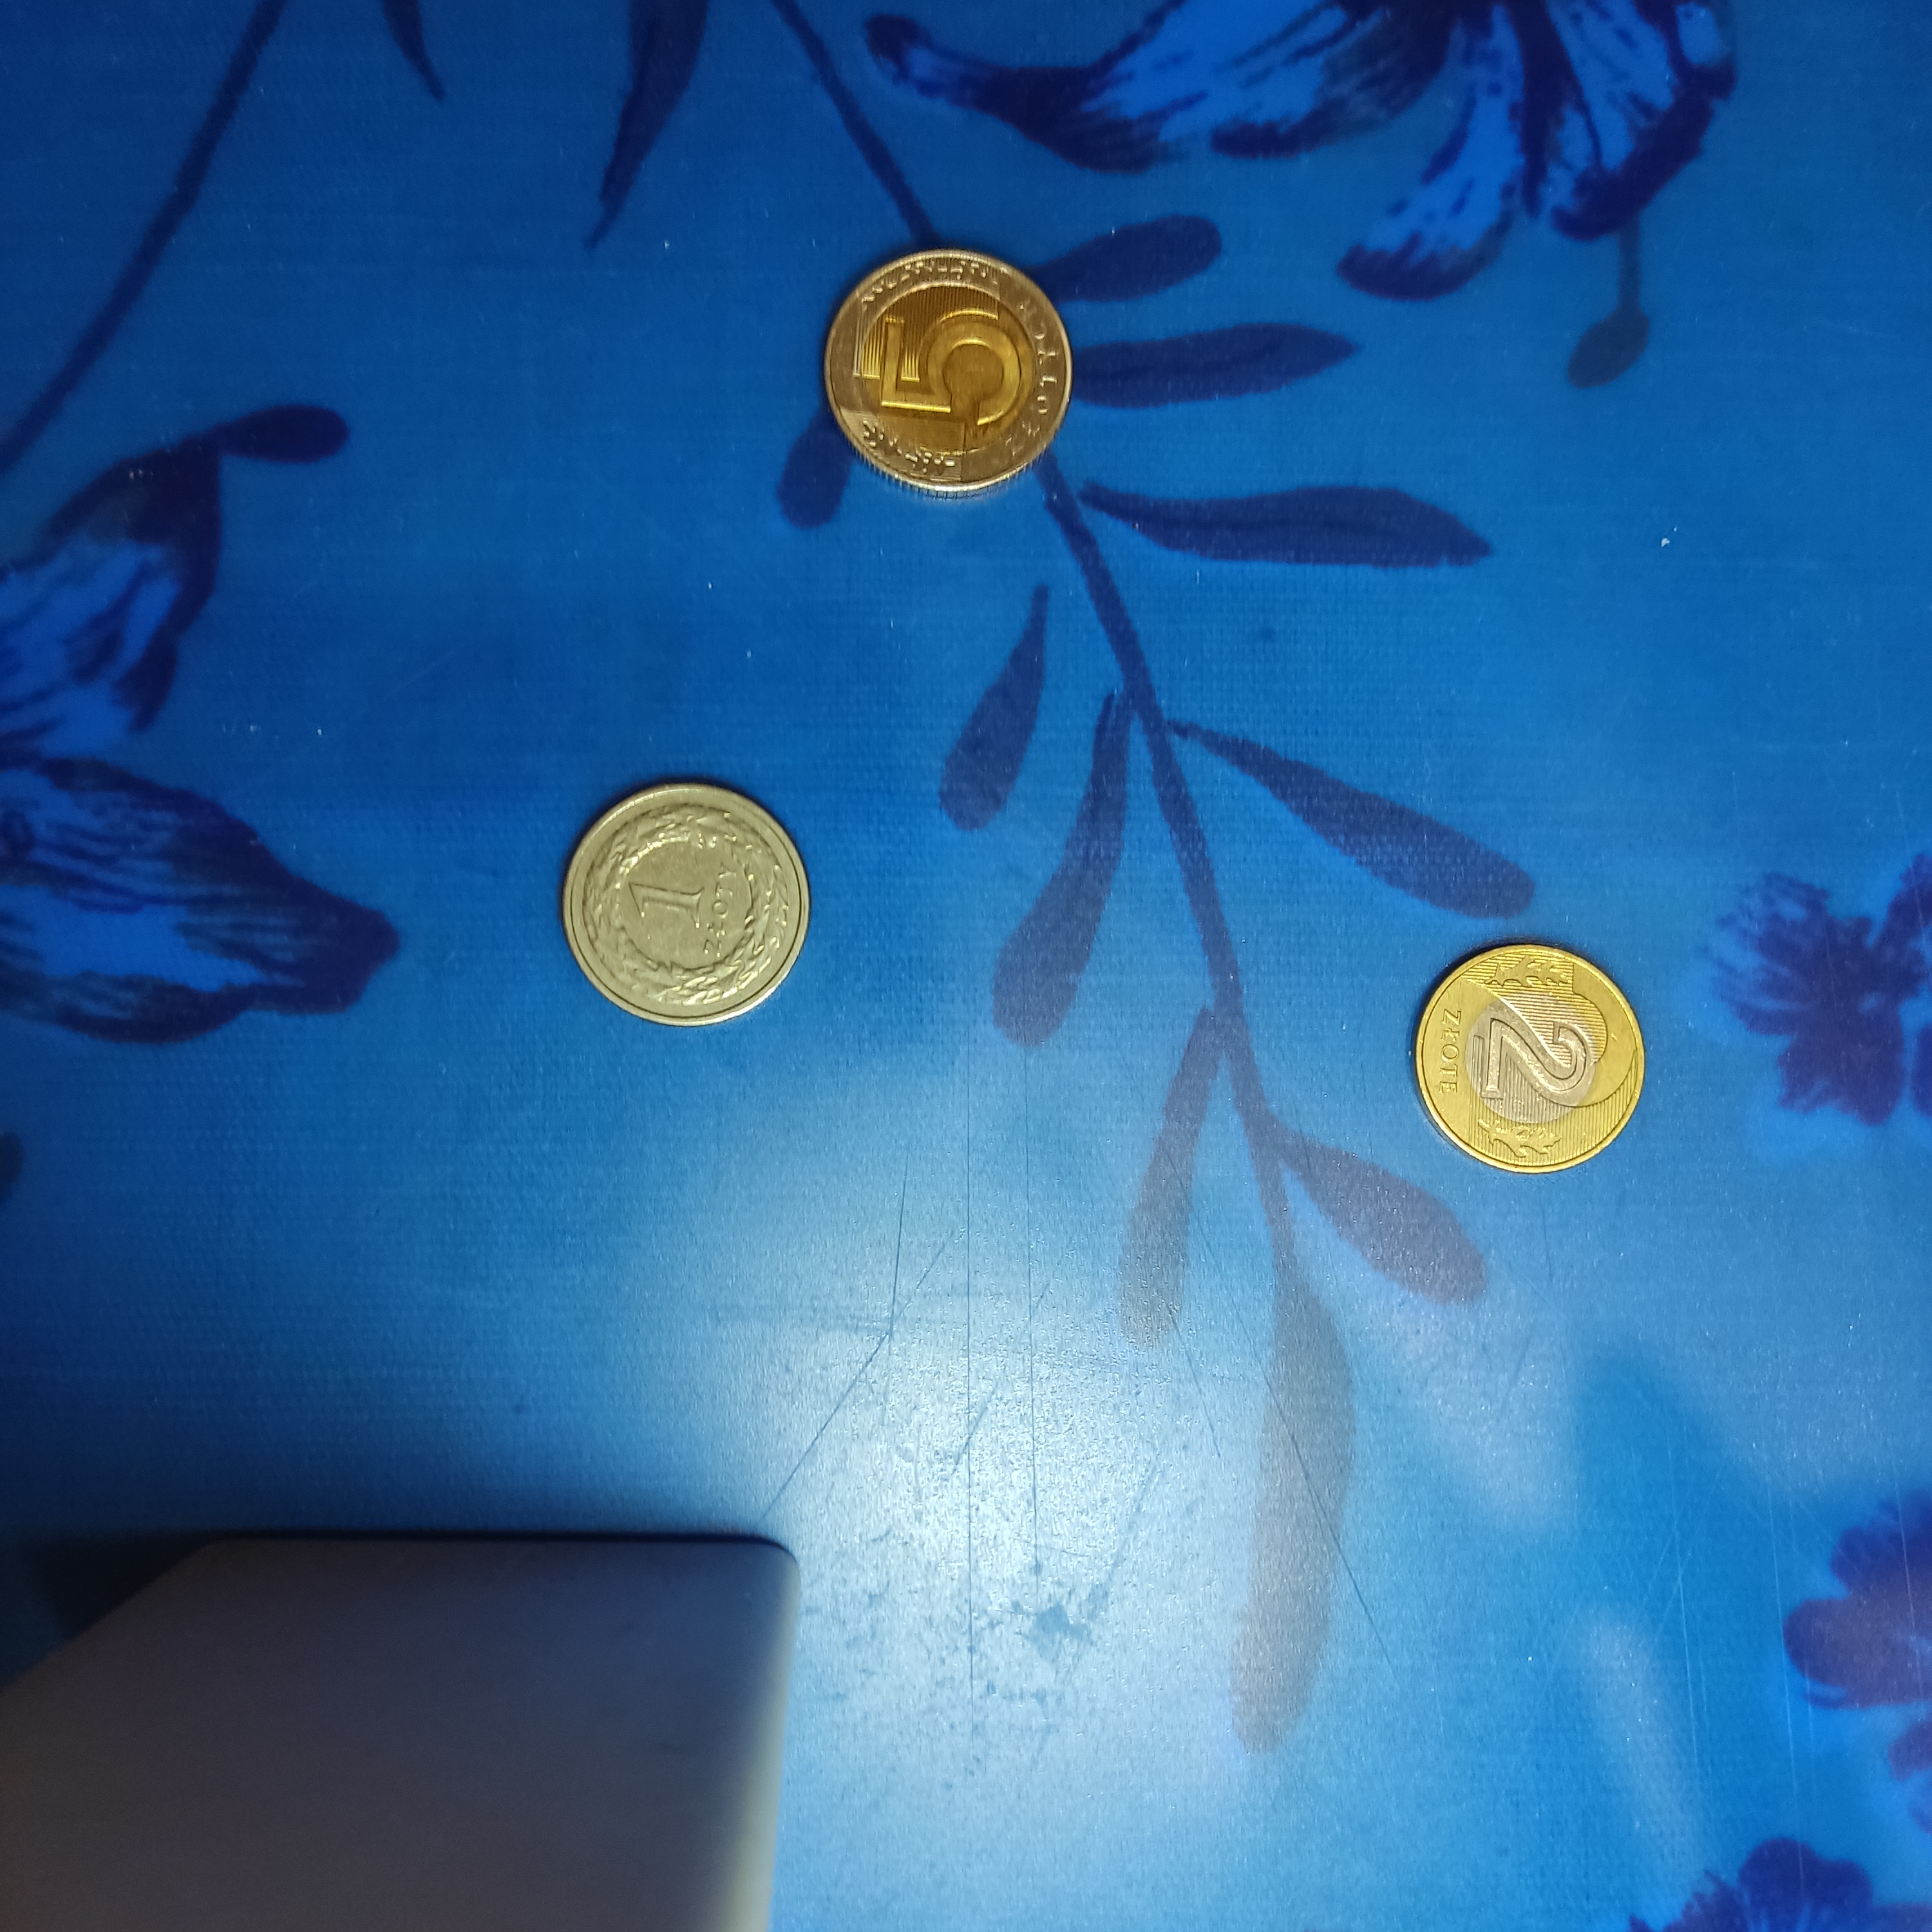1zl: (556, 780, 805, 1026)
2zl: (1415, 939, 1644, 1171)
5zl: (826, 242, 1070, 497)
